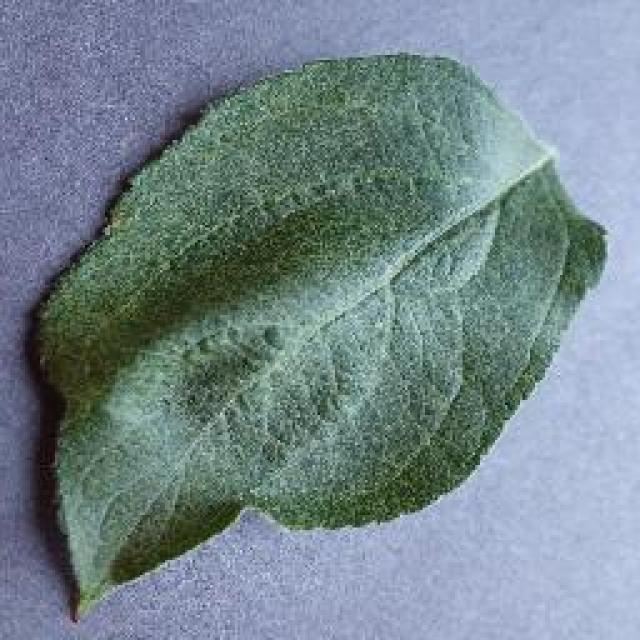apple healthy: (28, 48, 608, 620)
